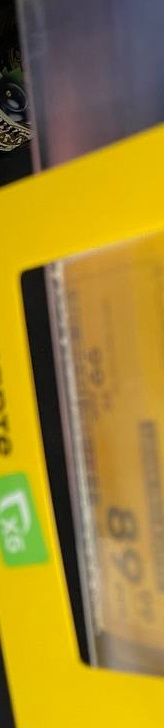1d: (59, 282, 103, 507)
